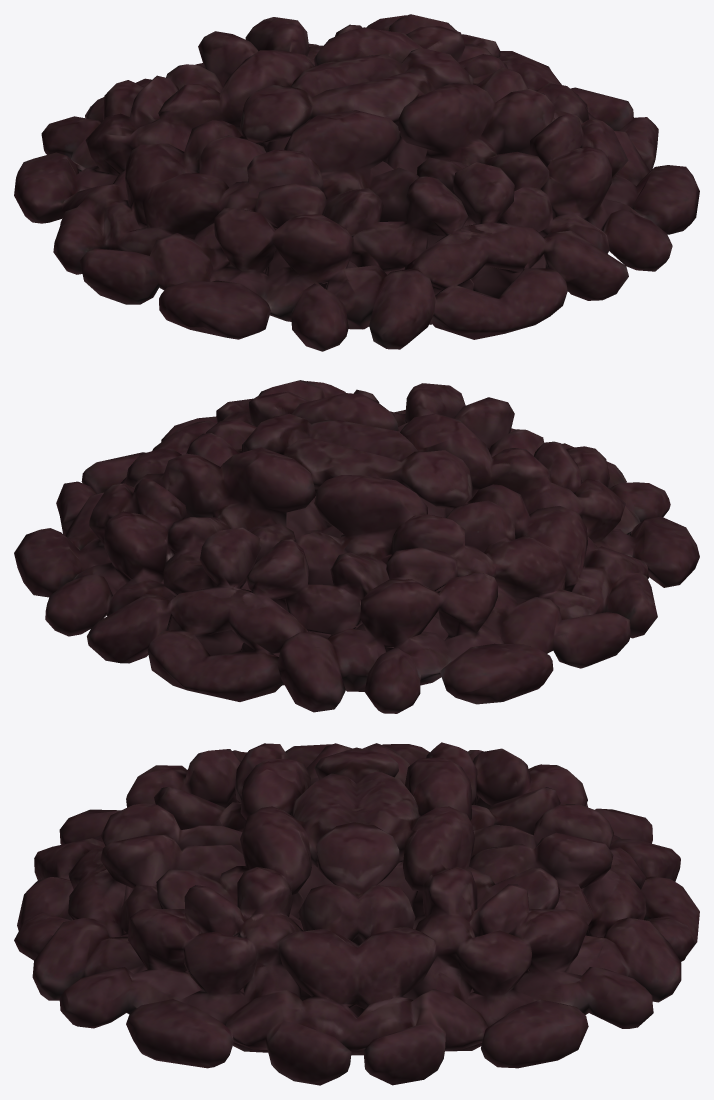
Rendered from Frijol_Cocido.fbx.
The picture shows the model from 3 angles, top to bottom: view 1: azimuth 30°, elevation 25°; view 2: azimuth 150°, elevation 25°; view 3: azimuth 270°, elevation 25°; orthographic projection. The views are drawn at different scales.
Parts seen in each view (by area): view 1: Mesh_0; view 2: Mesh_0; view 3: Mesh_0.
Boxes of the visible parts, x1,y1,x2,y2 form: Mesh_0: (14, 14, 699, 351); Mesh_0: (14, 380, 699, 713); Mesh_0: (14, 742, 699, 1085).
Size of the model in its own units: 190 by 50.11 by 185.
Materials: 1 (1 with a texture image).
